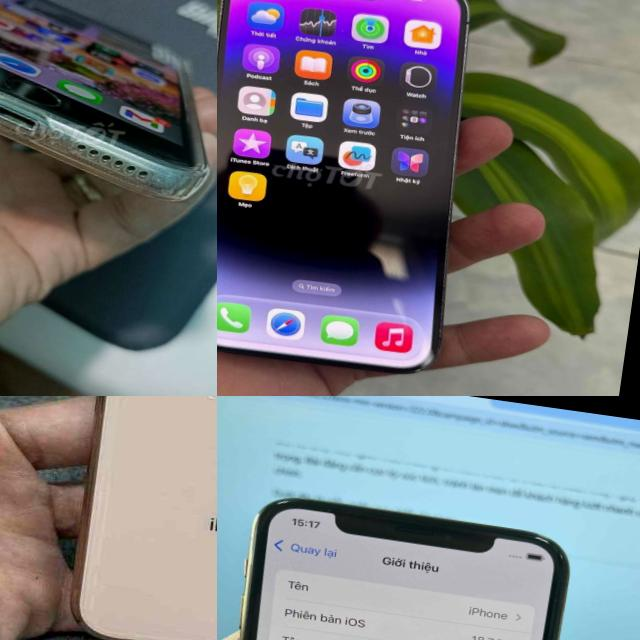gen_14: (217, 0, 501, 390)
gen_6: (0, 0, 217, 220)
gen_x_xs: (217, 485, 576, 640), (26, 396, 217, 640)
